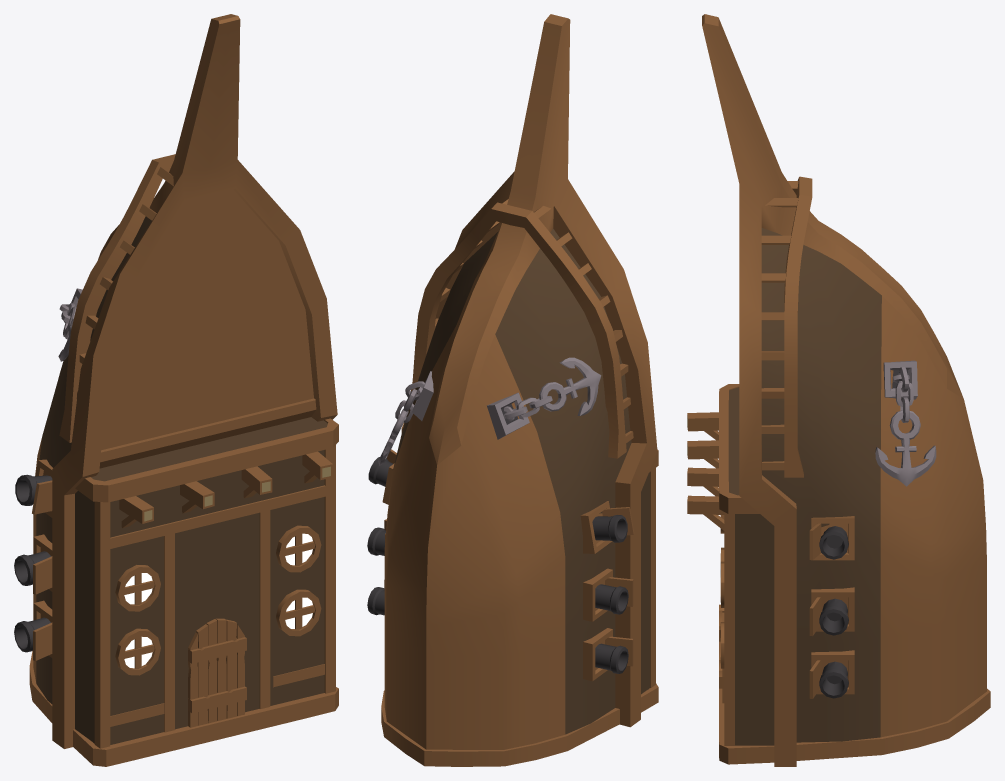
The model's file is Environment_House2.glb.
3 renders of one model, left to right at view 1: azimuth 30°, elevation 25°; view 2: azimuth 150°, elevation 25°; view 3: azimuth 270°, elevation 25°, orthographic. The views are drawn at different scales.
Parts seen in each view (by area): view 1: Environment_House2; view 2: Environment_House2; view 3: Environment_House2.
Boxes of the visible parts, x1,y1,x2,y2 form: Environment_House2: (14,14,338,766); Environment_House2: (367,14,658,766); Environment_House2: (687,14,990,766).
Size of the model in its own units: 3.77 by 9.38 by 3.74.
2 materials, 1 textured.
